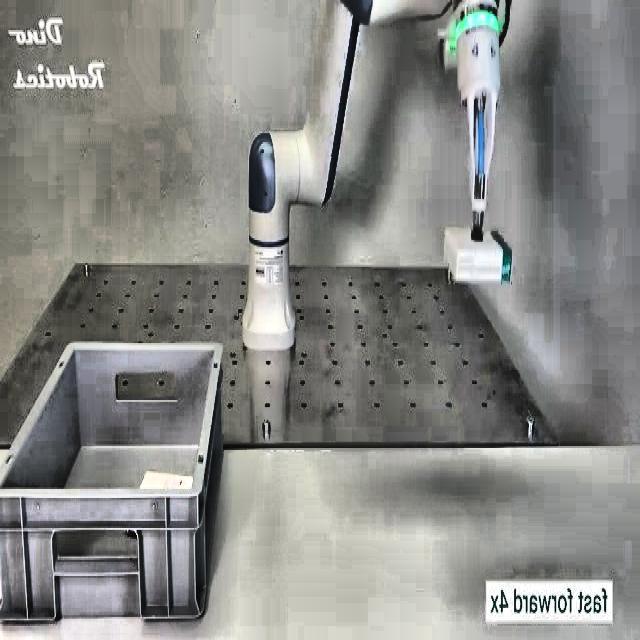robot: (231, 0, 517, 362)
